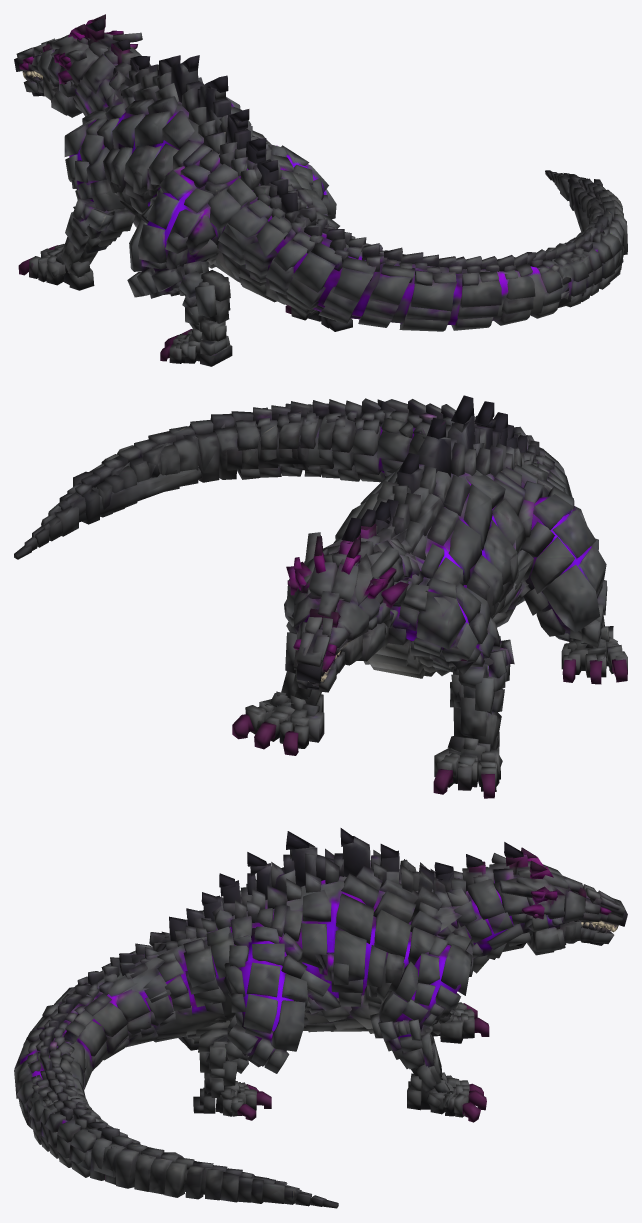
Rendered from polyonax.obj.
The picture shows the model from 3 angles, top to bottom: view 1: azimuth 30°, elevation 25°; view 2: azimuth 150°, elevation 25°; view 3: azimuth 270°, elevation 25°; orthographic projection. The views are drawn at different scales.
Visible parts, largest first — view 1: polyonax; view 2: polyonax; view 3: polyonax.
Part boxes in pixels (x1=…): polyonax: x1=14, y1=14, x2=627, y2=366; polyonax: x1=14, y1=395, x2=627, y2=798; polyonax: x1=14, y1=828, x2=627, y2=1208.
Size of the model in its own units: 12.2 by 6 by 13.81.
